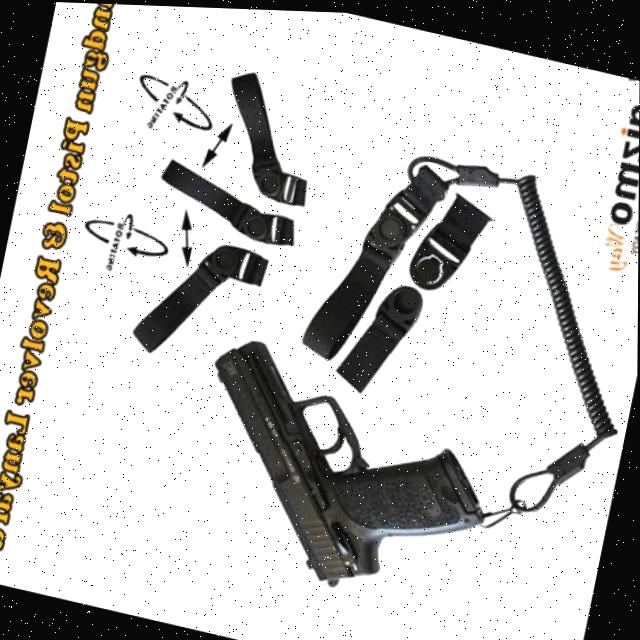pistol: (175, 325, 508, 614)
